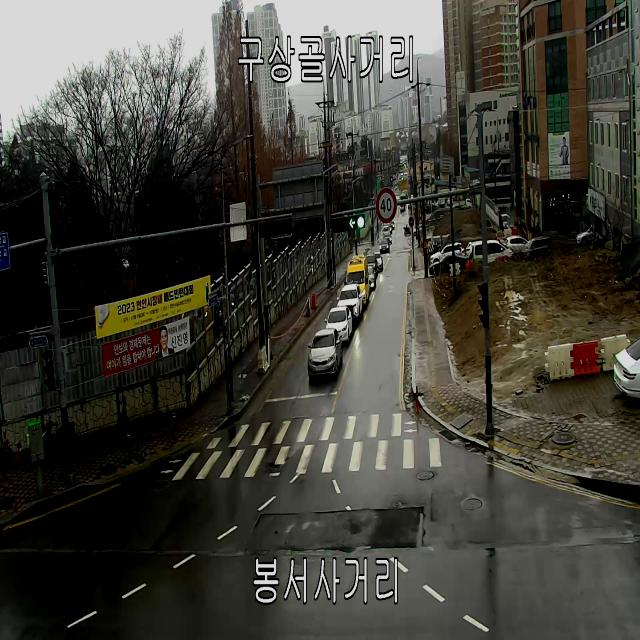Car: (308, 328, 342, 379), (613, 336, 640, 399), (344, 254, 370, 304), (324, 306, 353, 343), (337, 284, 363, 322), (472, 240, 514, 263), (429, 253, 467, 276), (430, 243, 466, 265), (576, 223, 603, 245), (524, 235, 552, 255), (504, 235, 529, 251), (426, 208, 450, 223), (466, 240, 482, 259), (366, 254, 378, 274), (367, 267, 376, 288), (454, 198, 472, 208), (374, 252, 383, 270), (379, 240, 390, 253), (382, 226, 391, 240), (437, 197, 445, 207), (384, 234, 392, 244), (425, 205, 431, 212), (448, 197, 453, 205), (388, 224, 392, 234), (391, 221, 395, 230)
Motorcycle: (402, 221, 411, 241)
